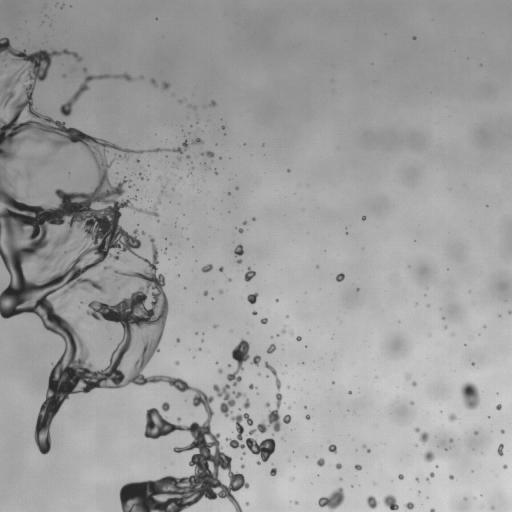droplet: (213, 361, 291, 464), (317, 487, 345, 511), (460, 382, 479, 409), (383, 494, 398, 511), (415, 427, 428, 444), (366, 495, 378, 508), (244, 267, 255, 281), (247, 292, 258, 304), (423, 450, 434, 462), (251, 355, 261, 366), (234, 244, 243, 256), (267, 343, 276, 353), (201, 264, 212, 272), (328, 444, 337, 453), (242, 398, 250, 408), (161, 402, 169, 411), (497, 443, 503, 455), (336, 273, 344, 281), (405, 502, 414, 509), (448, 414, 456, 421), (317, 458, 324, 466), (162, 82, 169, 89), (354, 464, 362, 470), (270, 468, 276, 476), (260, 318, 267, 324), (210, 100, 216, 106), (335, 463, 341, 469), (237, 228, 243, 233), (249, 384, 255, 389), (496, 404, 501, 410), (69, 149, 76, 153), (138, 174, 143, 179), (123, 257, 128, 262), (296, 336, 301, 341), (398, 474, 403, 479), (236, 259, 242, 263), (252, 311, 257, 315), (218, 368, 222, 373), (412, 381, 416, 386), (305, 415, 310, 419), (219, 267, 223, 271), (203, 291, 207, 295), (175, 361, 179, 365), (406, 374, 410, 378), (500, 429, 504, 433), (449, 438, 453, 442), (366, 448, 370, 452), (503, 464, 507, 468), (449, 475, 453, 479), (294, 501, 298, 505), (282, 328, 285, 333), (266, 402, 269, 407), (430, 508, 435, 511), (135, 159, 139, 162), (245, 502, 249, 505), (221, 126, 224, 129), (362, 216, 365, 219), (243, 221, 246, 224), (508, 310, 511, 313), (214, 324, 217, 327), (444, 325, 447, 328), (290, 331, 293, 334), (176, 338, 179, 341), (410, 401, 413, 404), (474, 431, 477, 434), (241, 464, 244, 467), (413, 36, 415, 39), (84, 68, 86, 71), (187, 155, 189, 158), (215, 171, 217, 174), (179, 177, 181, 180), (235, 187, 238, 189), (252, 218, 255, 220), (142, 231, 144, 234), (220, 290, 222, 293), (275, 299, 278, 301), (286, 315, 288, 318), (472, 362, 474, 365), (228, 364, 230, 367), (348, 391, 351, 393), (416, 478, 418, 481), (61, 5, 63, 7), (140, 77, 142, 79), (179, 100, 181, 102), (163, 251, 165, 253), (229, 279, 231, 281), (106, 325, 108, 327), (363, 445, 365, 447), (464, 497, 466, 499), (491, 506, 493, 508)
ligament: (0, 38, 242, 511), (60, 73, 133, 116), (226, 339, 249, 386), (200, 150, 214, 158), (26, 166, 33, 178), (427, 472, 434, 481), (161, 184, 166, 194), (150, 79, 156, 86), (188, 104, 195, 109)
